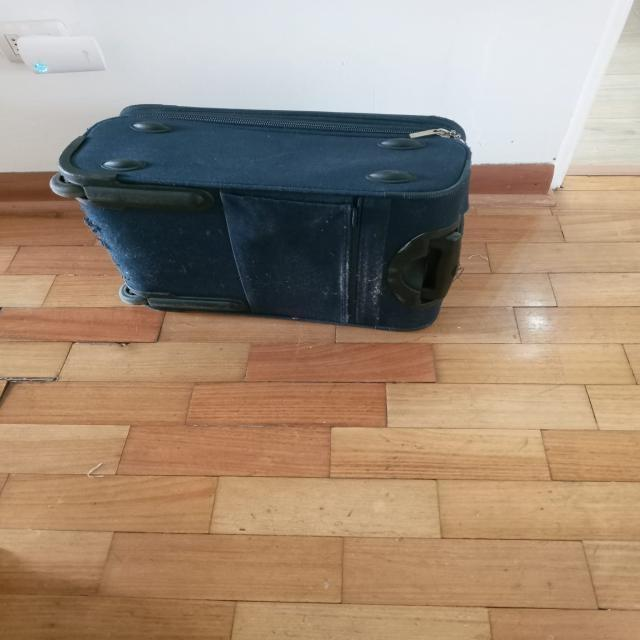Suitcase: (48, 101, 471, 334)
